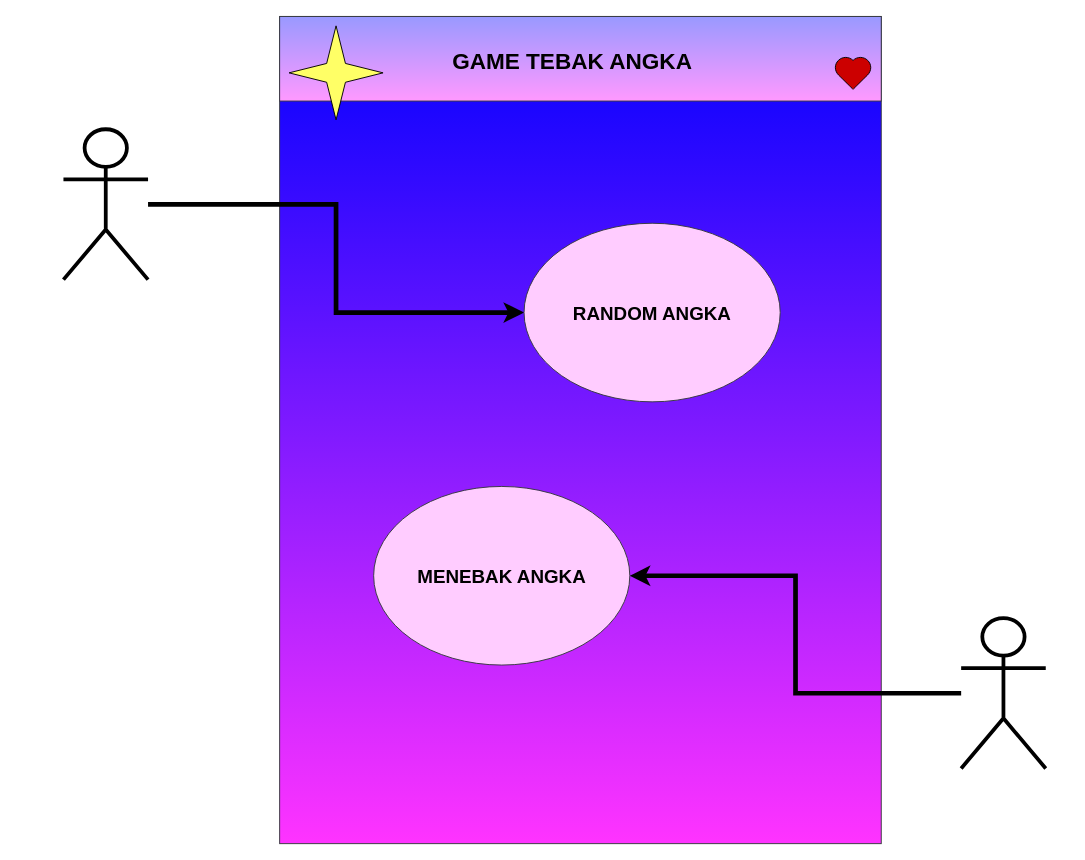
Some shapes in this 1085 by 860 pixel diagram are drawn without their labels. The shapes that lost their labels are listed below. From the top down, each one's centre as x and y in pixels, then its label:
At pixel 105 204: "PLAYER 1(KOMPUTER)".
At pixel 1003 693: "PLAYER 2(USER)".
